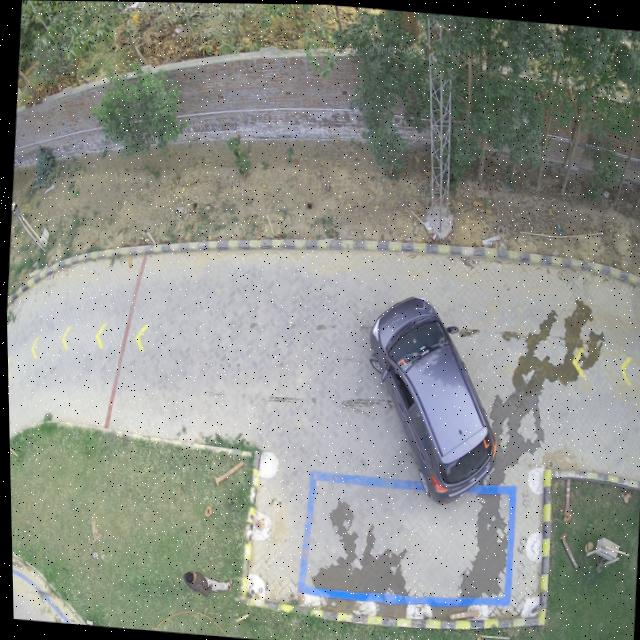car: (367, 295, 495, 501)
